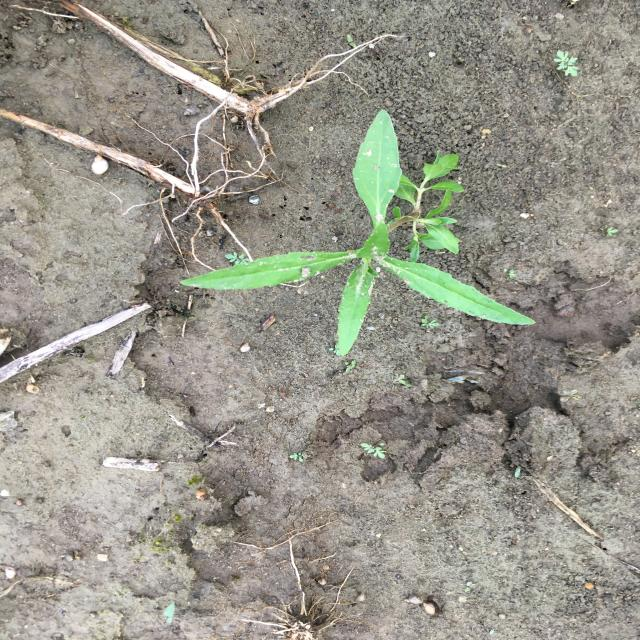Eclipta: (177, 109, 537, 357)
